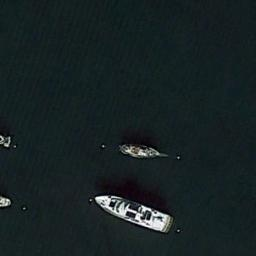boat: (92, 194, 174, 233), (117, 141, 165, 160)
